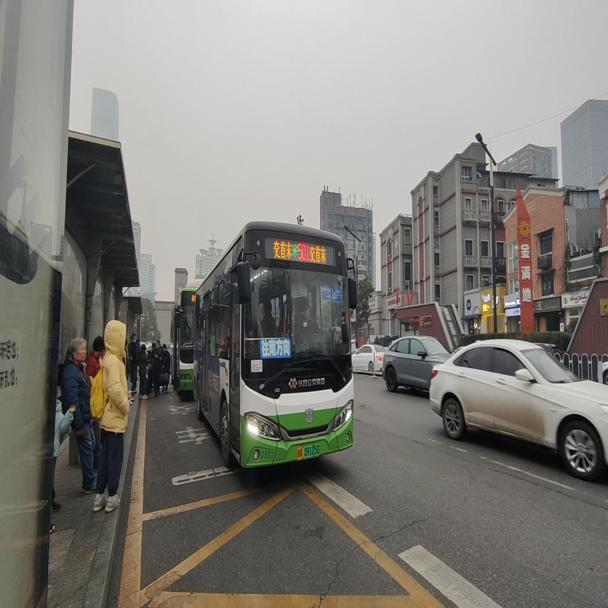bus: (193, 216, 357, 468), (167, 285, 195, 392)
screen: (296, 239, 309, 262)
